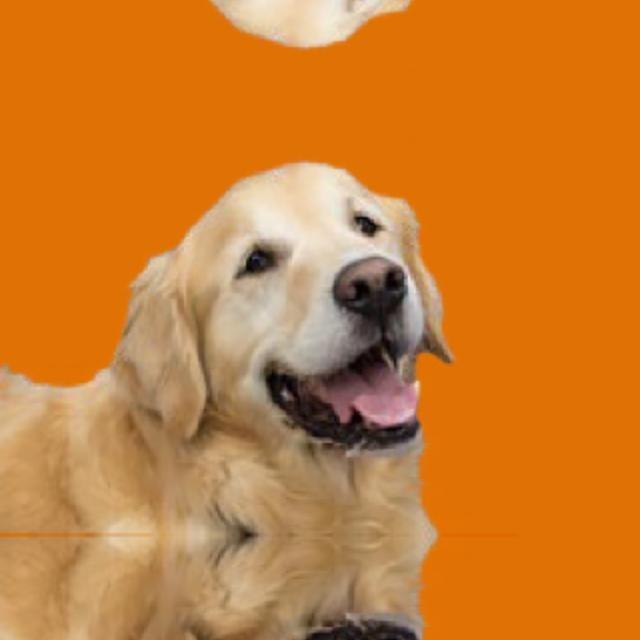dog: (112, 142, 490, 482), (111, 0, 490, 68), (111, 587, 490, 640)
